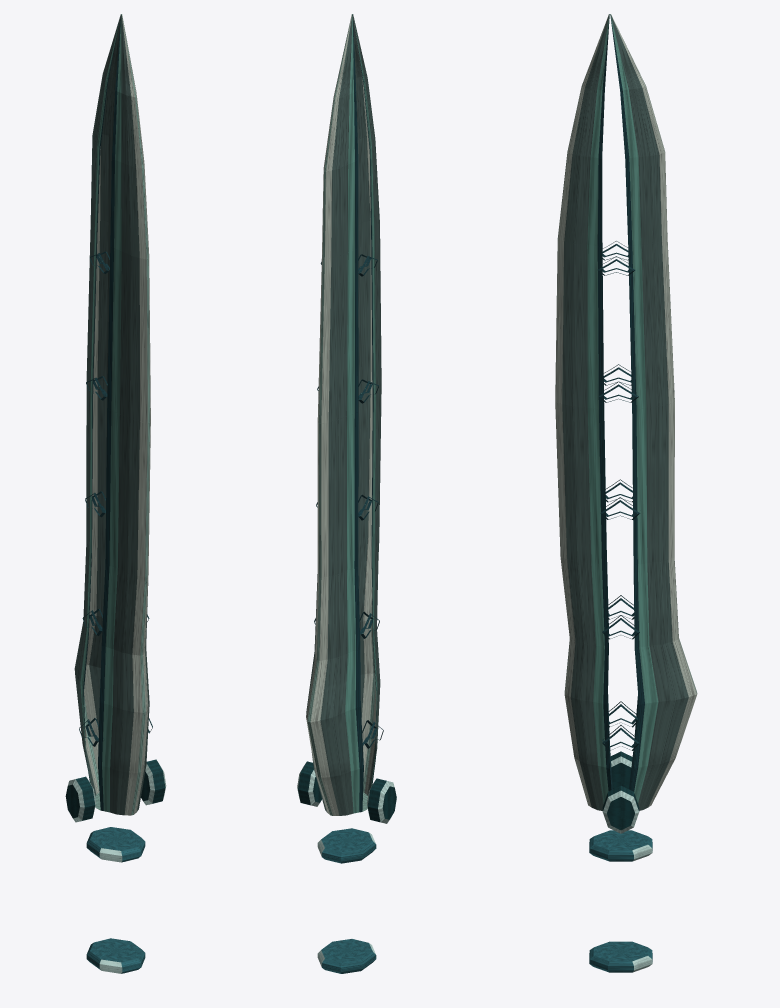
File: primordial_companion_sword_nascent_soul.obj
3 renders of one model, left to right at view 1: azimuth 30°, elevation 25°; view 2: azimuth 150°, elevation 25°; view 3: azimuth 270°, elevation 25°, orthographic.
Visible parts, largest first — view 1: geometry; view 2: geometry; view 3: geometry.
Part boxes in pixels (x1=…): geometry: x1=65, y1=14, x2=166, y2=973; geometry: x1=297, y1=14, x2=396, y2=973; geometry: x1=555, y1=14, x2=697, y2=972.
Bounding box in the file's own units: 0.1529 × 1.65 × 0.4462.
